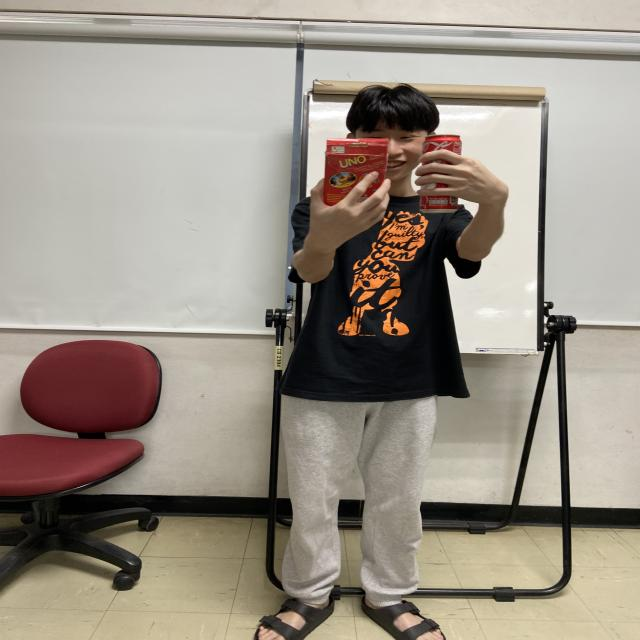can: (418, 132, 465, 215)
